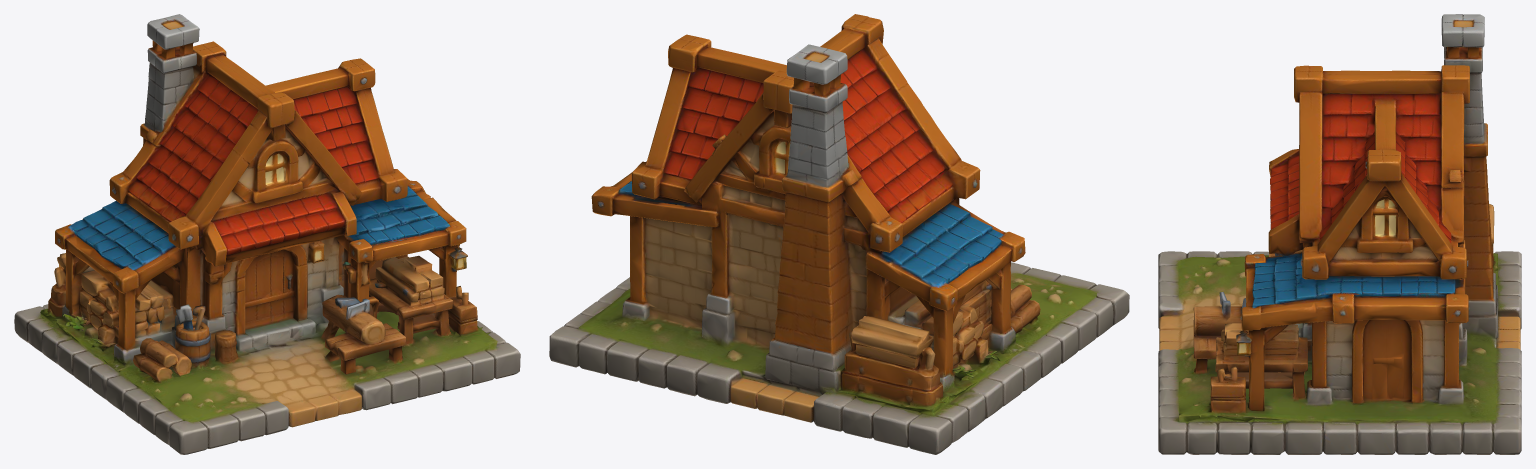
Rendered from wood_workshop.glb.
3 renders of one model, left to right at view 1: azimuth 30°, elevation 25°; view 2: azimuth 150°, elevation 25°; view 3: azimuth 270°, elevation 25°, orthographic. The views are drawn at different scales.
Parts seen in each view (by area): view 1: tripo_node_644537ce-7e13-4f12-8723-86963f768451; view 2: tripo_node_644537ce-7e13-4f12-8723-86963f768451; view 3: tripo_node_644537ce-7e13-4f12-8723-86963f768451.
Boxes of the visible parts, x1,y1,x2,y2 form: tripo_node_644537ce-7e13-4f12-8723-86963f768451: (14, 14, 520, 454); tripo_node_644537ce-7e13-4f12-8723-86963f768451: (549, 14, 1129, 454); tripo_node_644537ce-7e13-4f12-8723-86963f768451: (1158, 14, 1521, 454).
Bounding box in the file's own units: 1 × 0.8358 × 0.8515.
1 material, 1 textured.
